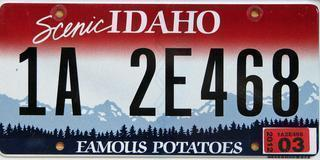placa de veiculo: (0, 2, 314, 155)
